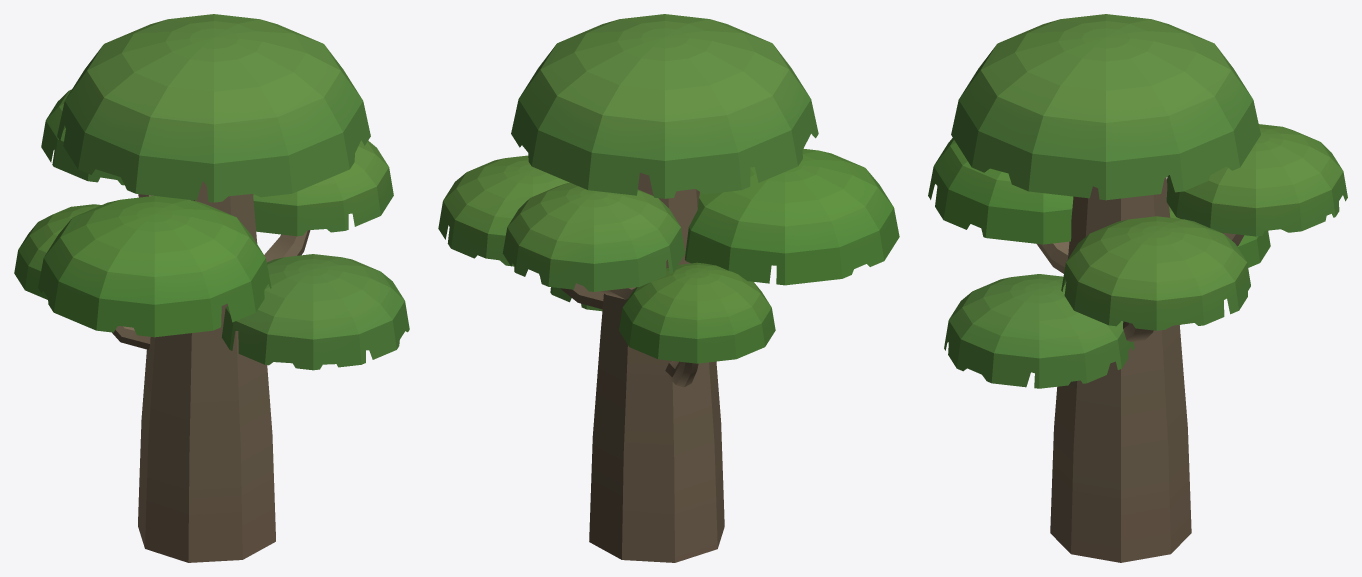
Rendered from Dino_Tree_Giant.fbx.
3 renders of one model, left to right at view 1: azimuth 30°, elevation 25°; view 2: azimuth 150°, elevation 25°; view 3: azimuth 270°, elevation 25°, orthographic. The views are drawn at different scales.
Visible parts, largest first — view 1: Dino_Tree_Giant_mesh; view 2: Dino_Tree_Giant_mesh; view 3: Dino_Tree_Giant_mesh.
Boxes of the visible parts, <box> form: Dino_Tree_Giant_mesh: <box>14,14,409,562</box>; Dino_Tree_Giant_mesh: <box>438,14,899,562</box>; Dino_Tree_Giant_mesh: <box>928,14,1347,562</box>.
Bounding box in the file's own units: 47.72 × 59.48 × 45.69.
